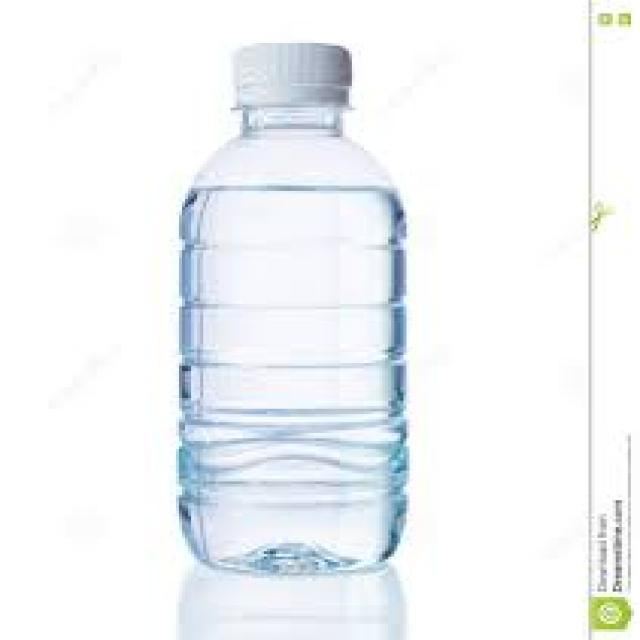Plastic: (162, 32, 402, 578)
